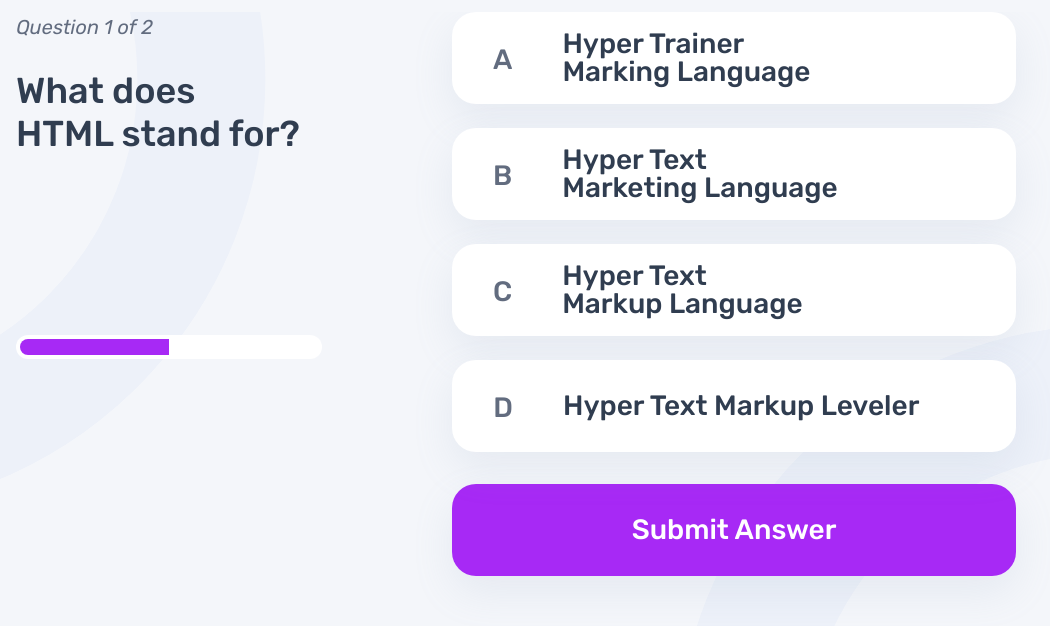
Scenario: handles answers in Quiz › disables answer options once answer has been submitted
The width and height of the screenshot is (1050, 626).
What coordinates should you click on to do the following:
click the button "D Hyper Text Markup Leveler"
I would click on:
 (734, 406)
Its box is top-left (455, 363), bottom-right (1013, 449).
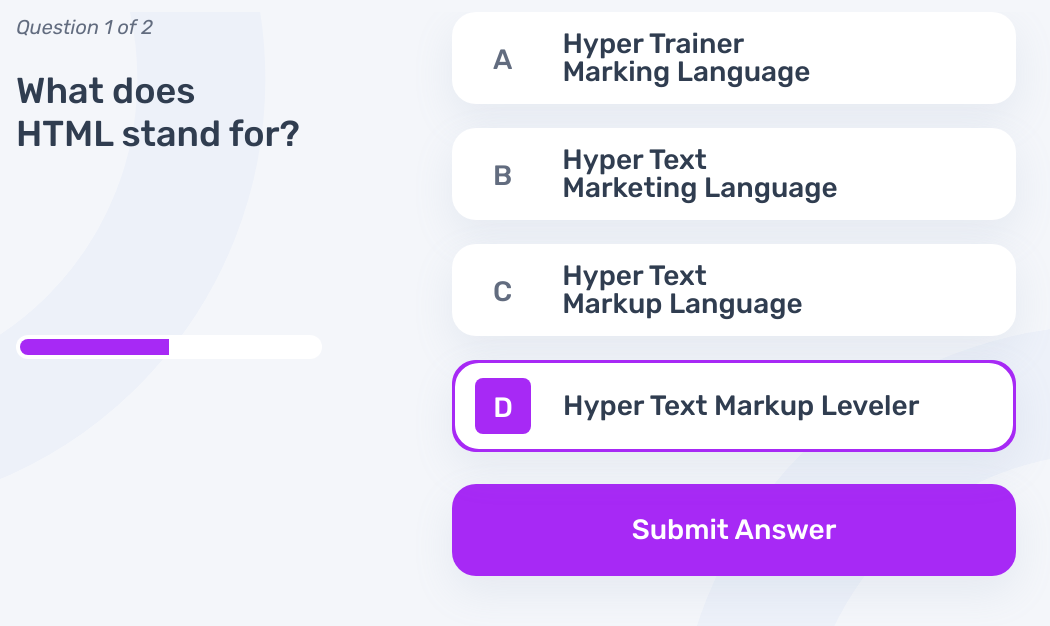
# Submit the answer
What coordinates should you click on to do the following:
click the button "Submit Answer"
I would click on:
 (734, 530)
Its box is top-left (452, 484), bottom-right (1016, 576).
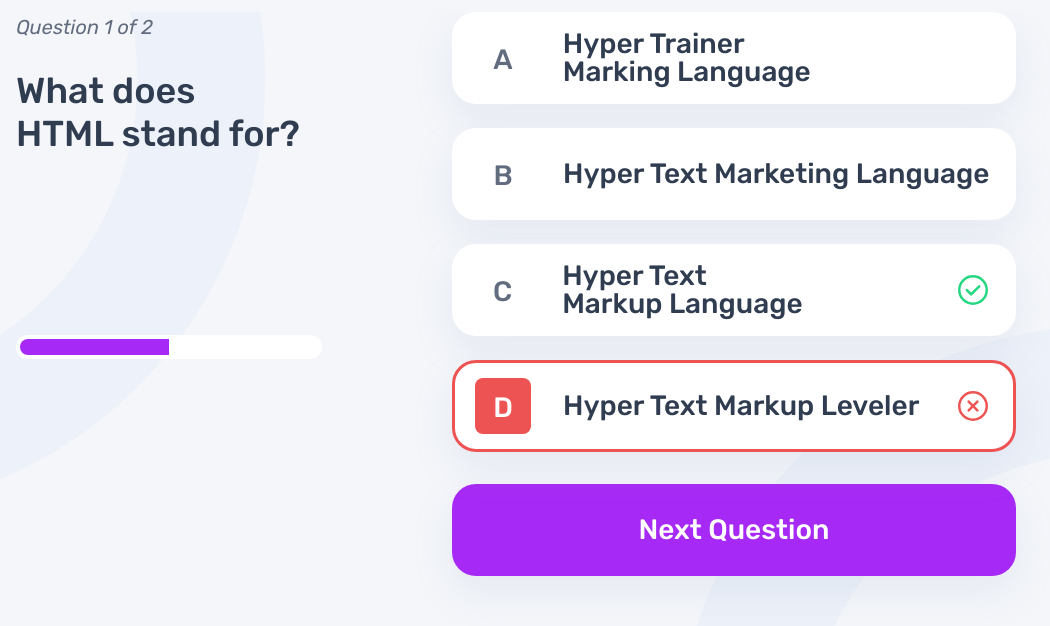
Result: the button named "C Hyper Text Markup Language correct indicator" is disabled at top-left (455, 247), bottom-right (1013, 333)
